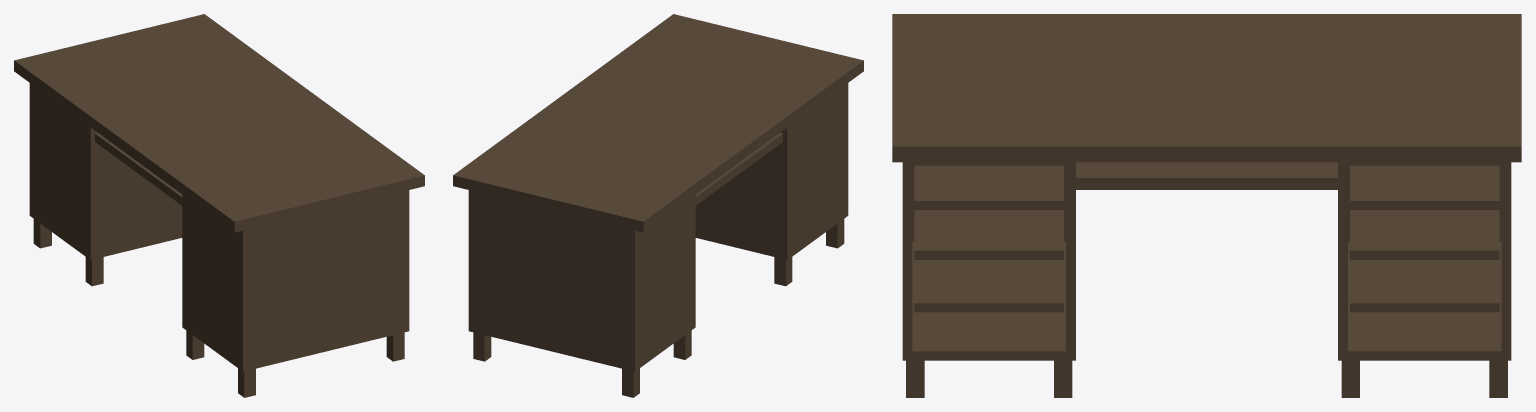
File: SM_Desk_03.glb
3 views of the same model, side by side, from view 1: azimuth 30°, elevation 25°; view 2: azimuth 150°, elevation 25°; view 3: azimuth 270°, elevation 25° (orthographic). The views are drawn at different scales.
Parts seen in each view (by area): view 1: SM_Desk_03; view 2: SM_Desk_03; view 3: SM_Desk_03.
Part boxes in pixels (left/top/right/bottom): SM_Desk_03: left=14, top=14, right=424, bottom=397; SM_Desk_03: left=453, top=14, right=863, bottom=397; SM_Desk_03: left=892, top=14, right=1521, bottom=397.
Bounding box in the file's own units: 0.8939 × 0.823 × 1.79.
Materials: 1 (1 with a texture image).
